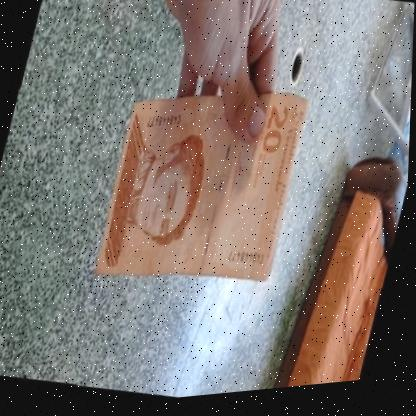twenty-front-vef: (93, 64, 315, 314)
